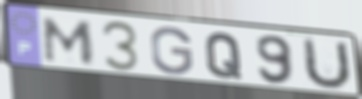3: (99, 19, 141, 74)
9: (254, 34, 296, 87)
G: (149, 25, 196, 77)
M: (42, 16, 97, 66)
Q: (203, 31, 244, 81)
U: (302, 36, 353, 91)
